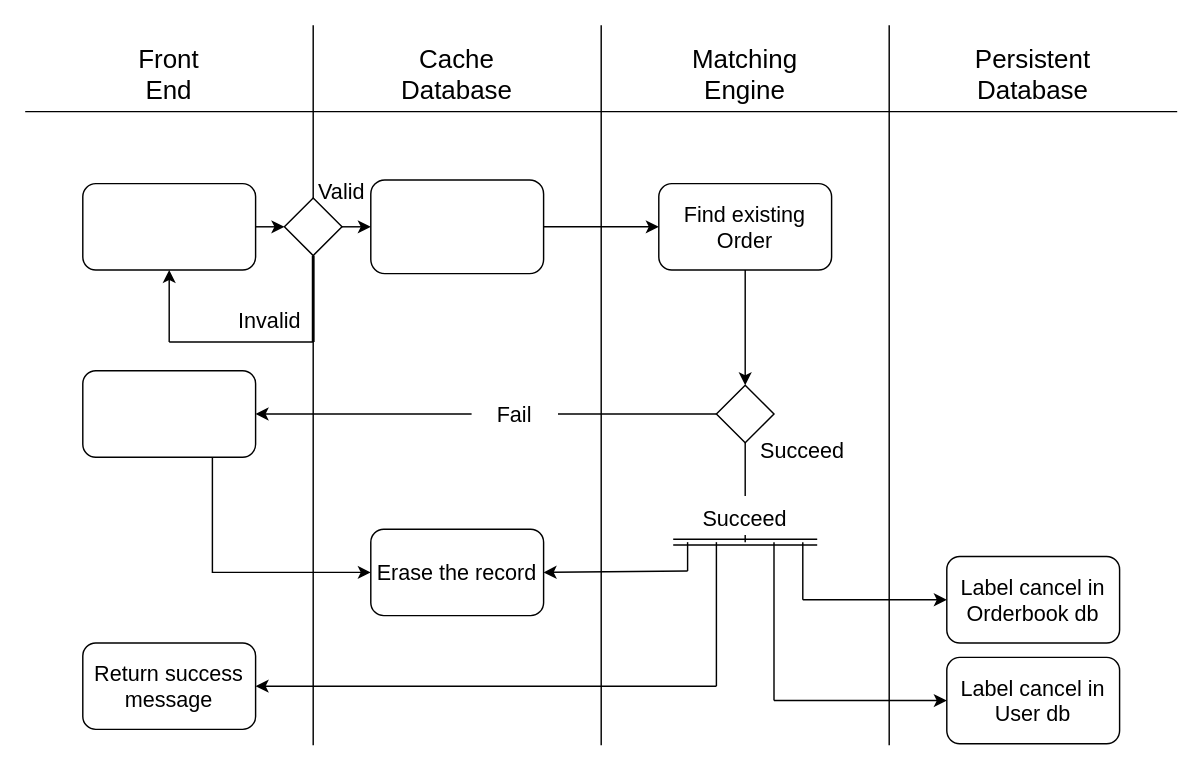
Some shapes in this 1204 by 772 pixel diagram are drawn without their labels. Here are the shapes that lost their labels. From the top down, the box of each, then its label:
(81, 182, 256, 270): Place a CANCEL order
(369, 179, 544, 274): Store command, orderId
(81, 369, 256, 457): Raise exception
